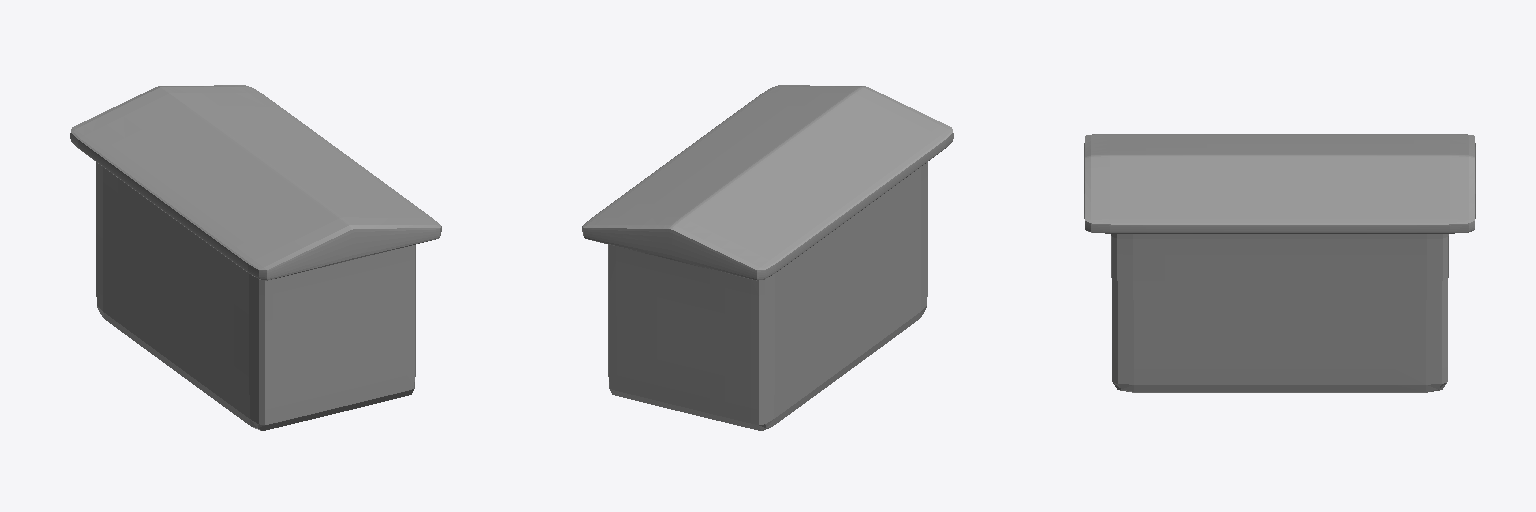
File: Hotel.obj
The picture shows the model from 3 angles: view 1: azimuth 30°, elevation 25°; view 2: azimuth 150°, elevation 25°; view 3: azimuth 270°, elevation 25°; orthographic projection.
Parts seen in each view (by area): view 1: Hotel_Cube.011; view 2: Hotel_Cube.011; view 3: Hotel_Cube.011.
Part boxes in pixels (x1,y1,x2,y2): Hotel_Cube.011: (70,85,441,430); Hotel_Cube.011: (582,85,953,430); Hotel_Cube.011: (1084,134,1475,392).
Bounding box in the file's own units: 2.32 × 2.41 × 4.24.